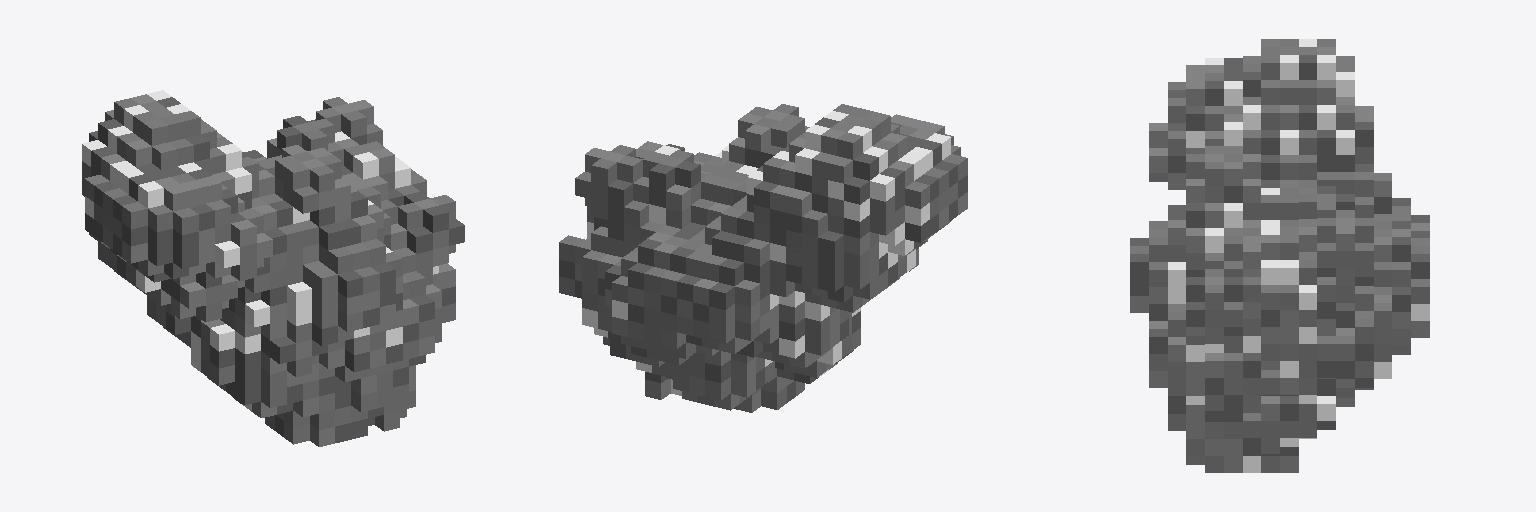
3 renders of one model, left to right at view 1: azimuth 30°, elevation 25°; view 2: azimuth 150°, elevation 25°; view 3: azimuth 270°, elevation 25°, orthographic.
Parts seen in each view (by area): view 1: object 1; view 2: object 1; view 3: object 1.
Part boxes in pixels (bbox=[...]): object 1: bbox=[82, 90, 464, 446]; object 1: bbox=[559, 104, 967, 412]; object 1: bbox=[1130, 39, 1429, 472].
Bounding box in the file's own units: 2 × 1.9 × 1.6.
Materials: 1 (1 with a texture image).